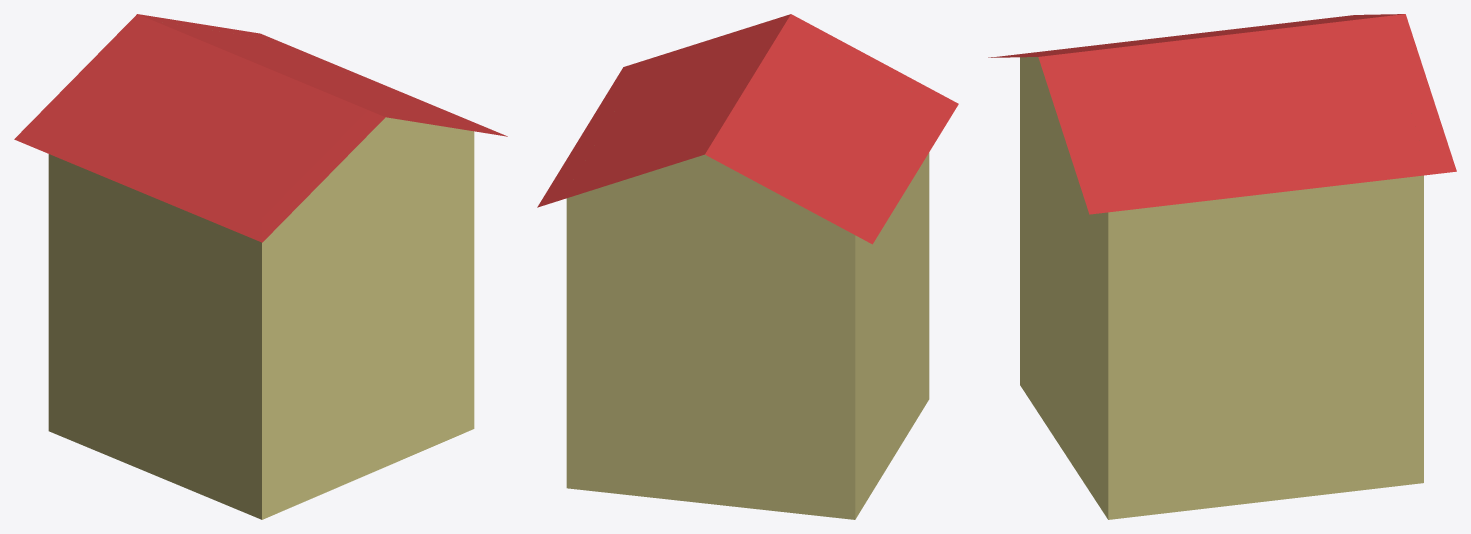
3 views of the same model, side by side, from view 1: azimuth 30°, elevation 25°; view 2: azimuth 150°, elevation 25°; view 3: azimuth 270°, elevation 25° (orthographic). The views are drawn at different scales.
Visible parts, largest first — view 1: group_5, group_3, group_4; view 2: group_5, group_3, group_4; view 3: group_5, group_3, group_4.
Boxes of the visible parts, x1,y1,x2,y2 form: group_5: (48, 117, 474, 519); group_3: (14, 14, 507, 217); group_4: (15, 14, 503, 242); group_5: (566, 152, 929, 519); group_3: (567, 14, 929, 244); group_4: (537, 14, 958, 243); group_5: (1020, 57, 1423, 519); group_3: (1023, 14, 1423, 214); group_4: (988, 14, 1456, 214).
Bounding box in the file's own units: 13.16 × 13.1 × 12.26.
